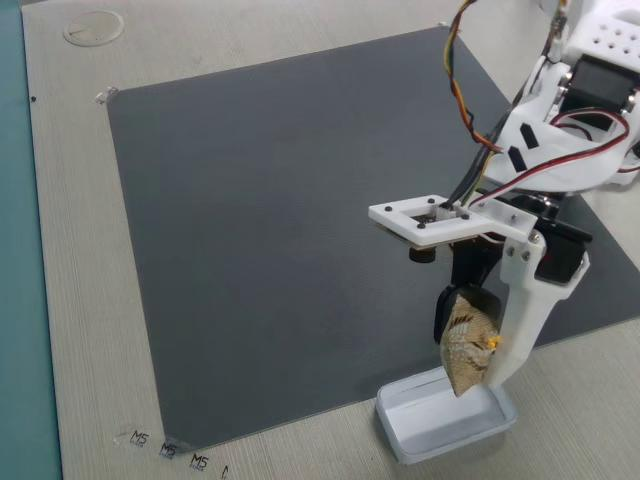gripper: (421, 213, 580, 374)
